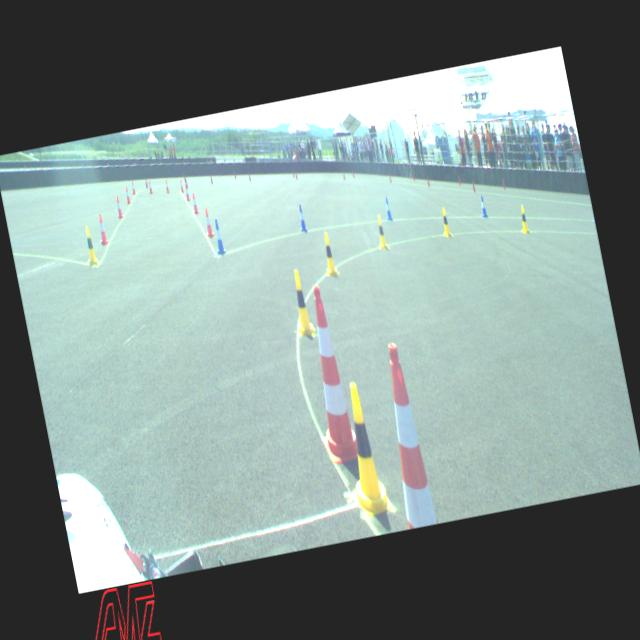blue_cone: (211, 218, 227, 256), (295, 203, 308, 233), (383, 197, 393, 221), (478, 195, 488, 218)
large_orange_cone: (373, 341, 438, 530), (293, 284, 360, 465)
orange_cone: (95, 213, 109, 245), (202, 208, 215, 238), (114, 196, 124, 218), (190, 192, 200, 214), (125, 186, 132, 204), (183, 184, 190, 201), (130, 180, 136, 194), (148, 180, 154, 193), (164, 180, 170, 192), (180, 179, 184, 192)
yellow_cone: (334, 380, 394, 518), (286, 268, 316, 338), (319, 231, 338, 277), (82, 226, 98, 266), (374, 214, 388, 250), (438, 207, 452, 238), (518, 204, 530, 233)
